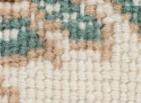Knot: (9, 19, 19, 27), (68, 3, 78, 11), (91, 41, 101, 49), (51, 30, 62, 37), (18, 37, 27, 45), (76, 21, 86, 28), (33, 48, 44, 54), (69, 11, 77, 19), (45, 3, 53, 11), (86, 30, 94, 38), (27, 37, 35, 45), (42, 21, 51, 28), (68, 20, 77, 27), (92, 73, 101, 80), (1, 2, 10, 9), (77, 41, 85, 48), (131, 4, 139, 11), (60, 4, 68, 11), (18, 59, 26, 66), (69, 41, 77, 48), (85, 72, 92, 80), (94, 19, 101, 27), (54, 14, 62, 21), (37, 2, 45, 9), (62, 12, 69, 19), (53, 3, 59, 11), (62, 21, 68, 28), (86, 20, 92, 27), (131, 12, 137, 19), (54, 21, 60, 28), (86, 41, 91, 48), (42, 98, 50, 101), (35, 98, 42, 101)
